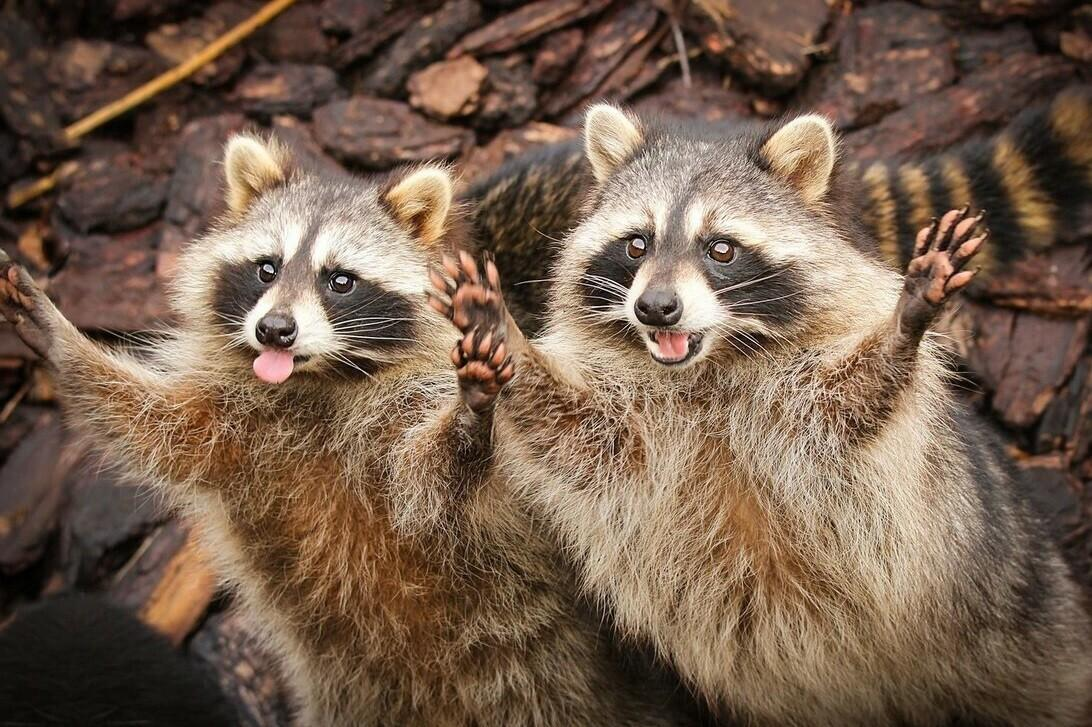raccoon: (426, 105, 1092, 727), (0, 131, 688, 727)
